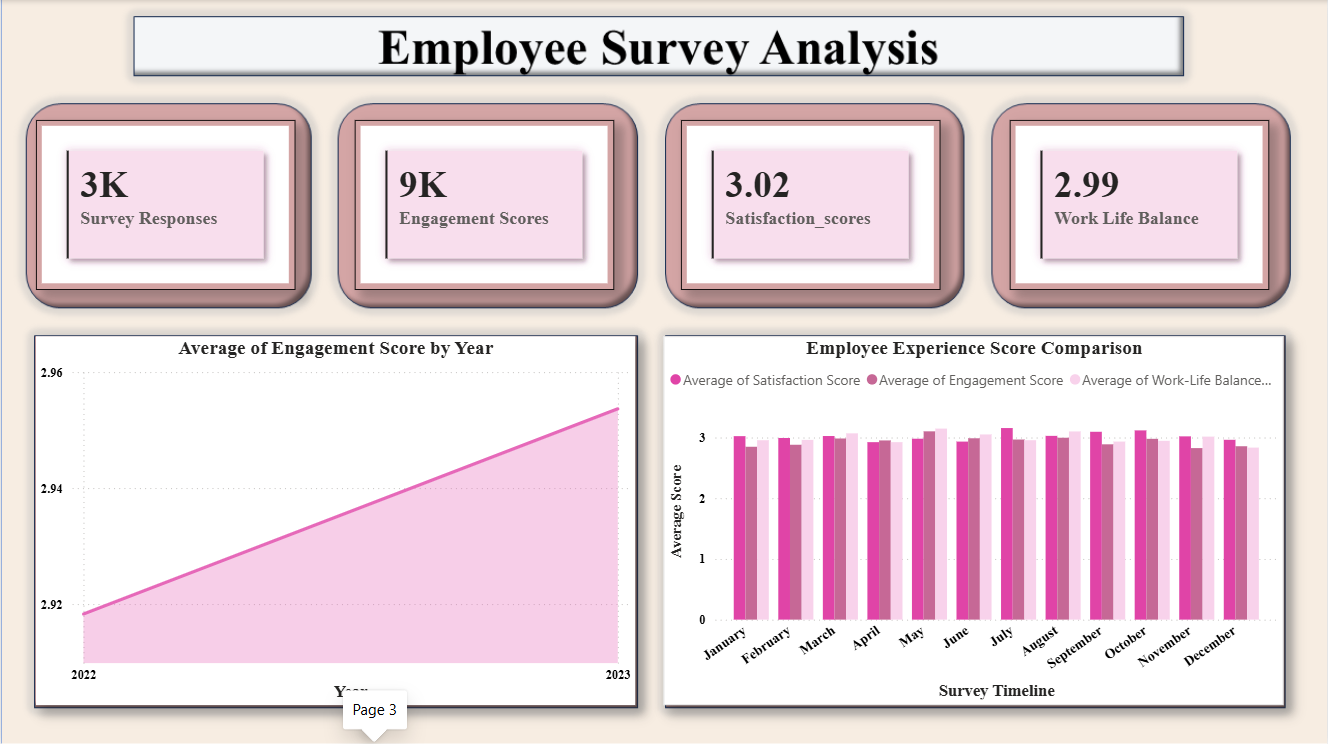

Layout of this report page (visuals, bound fields, positions):
{"tool":"powerbi","page":{"name":"Page 3","canvas":[1280,720],"ordinal":2},"visuals":[{"type":"cardVisual","fields":{"Data":["CountNonNull(employee_data.EmpID)"]},"box":[34,116,250,164],"z":0},{"type":"cardVisual","fields":{"Data":["Sum(employee_engagement_survey_data.Engagement Score)"]},"box":[342,116,250,164],"z":1000},{"type":"cardVisual","fields":{"Data":["Avg(employee_engagement_survey_data.Satisfaction Score)"]},"box":[656,116,250,164],"z":2000},{"type":"cardVisual","fields":{"Data":["Avg(employee_engagement_survey_data.Work-Life Balance Score)"]},"box":[974,116,250,164],"z":3000},{"type":"lineChart","fields":{"Category":["employee_engagement_survey_data.Survey Date.Variation.Date Hierarchy.Year","employee_engagement_survey_data.Survey Date.Variation.Date Hierarchy.Quarter","employee_engagement_survey_data.Survey Date.Variation.Date Hierarchy.Month","employee_engagement_survey_data.Survey Date.Variation.Date Hierarchy.Day"],"Y":["Avg(employee_engagement_survey_data.Engagement Score)"]},"box":[33.8,325,578.8,356.2],"z":4000},{"type":"clusteredColumnChart","title":"Employee Experience Score Comparison","fields":{"Y":["Avg(employee_engagement_survey_data.Satisfaction Score)","Avg(employee_engagement_survey_data.Engagement Score)","Avg(employee_engagement_survey_data.Work-Life Balance Score)"],"Category":["employee_engagement_survey_data.Survey Date.Variation.Date Hierarchy.Month"]},"box":[640,325,598.8,356.2],"z":5000}]}

Visuals, with their boxes in screenshot pixels (x1, y1, x2, y2), scaled from the page's 1280x720 canvas onto the 1328x744 screenshot:
cardVisual - CountNonNull(employee_data.EmpID): (35,120,295,289)
cardVisual - Sum(employee_engagement_survey_data.Engagement Score): (355,120,614,289)
cardVisual - Avg(employee_engagement_survey_data.Satisfaction Score): (681,120,940,289)
cardVisual - Avg(employee_engagement_survey_data.Work-Life Balance Score): (1011,120,1270,289)
lineChart - employee_engagement_survey_data.Survey Date.Variation.Date Hierarchy.Year x employee_engagement_survey_data.Survey Date.Variation.Date Hierarchy.Quarter: (35,336,636,704)
"Employee Experience Score Comparison" clusteredColumnChart: (664,336,1285,704)
